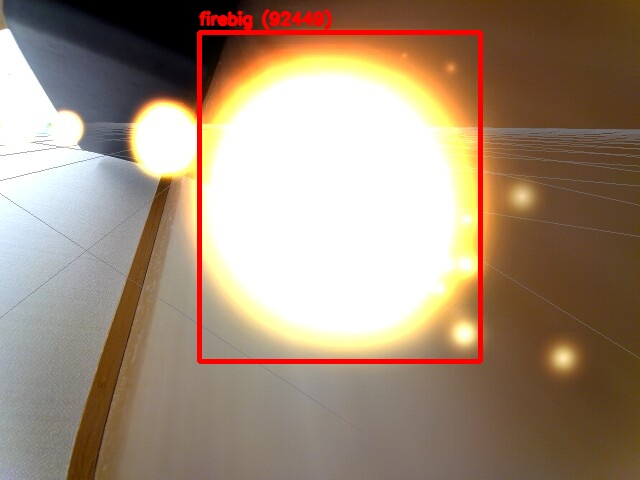firebig: (199, 32, 480, 361)
